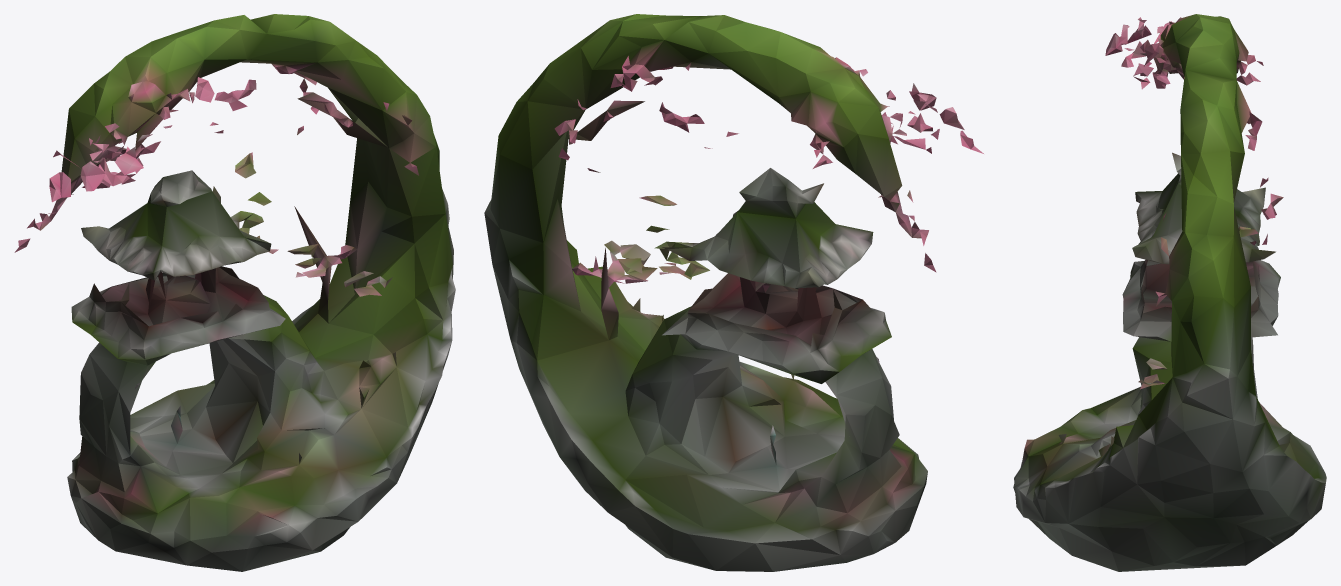
The model's file is bq_moongate.vc2.glb.
The picture shows the model from 3 angles, left to right: view 1: azimuth 30°, elevation 25°; view 2: azimuth 150°, elevation 25°; view 3: azimuth 270°, elevation 25°; orthographic projection. The views are drawn at different scales.
Visible parts, largest first — view 1: bq_moongate; view 2: bq_moongate; view 3: bq_moongate.
Boxes of the visible parts, x1,y1,x2,y2 form: bq_moongate: [14, 14, 455, 571]; bq_moongate: [484, 14, 983, 571]; bq_moongate: [1013, 14, 1326, 571].
Size of the model in its own units: 1.76 by 1.9 by 1.1.
